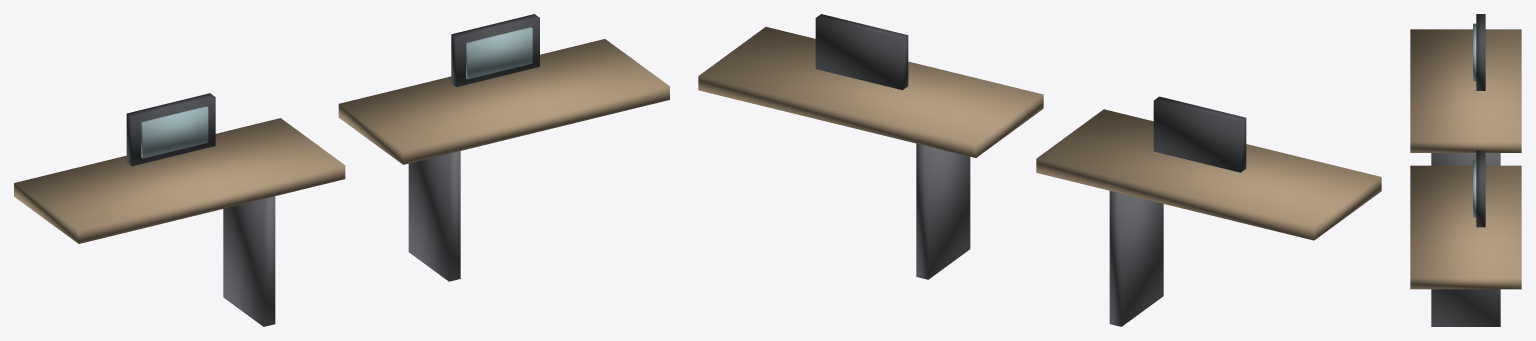
Rendered from newsroom_desk_cluster__wide.glb.
3 renders of one model, left to right at view 1: azimuth 30°, elevation 25°; view 2: azimuth 150°, elevation 25°; view 3: azimuth 270°, elevation 25°, orthographic. The views are drawn at different scales.
Visible parts, largest first — view 1: world; view 2: world; view 3: world.
Part boxes in pixels (bbox=[...]): world: bbox=[14, 14, 669, 326]; world: bbox=[698, 14, 1381, 326]; world: bbox=[1410, 14, 1521, 326].
Bounding box in the file's own units: 3.16 × 1.11 × 0.6.
